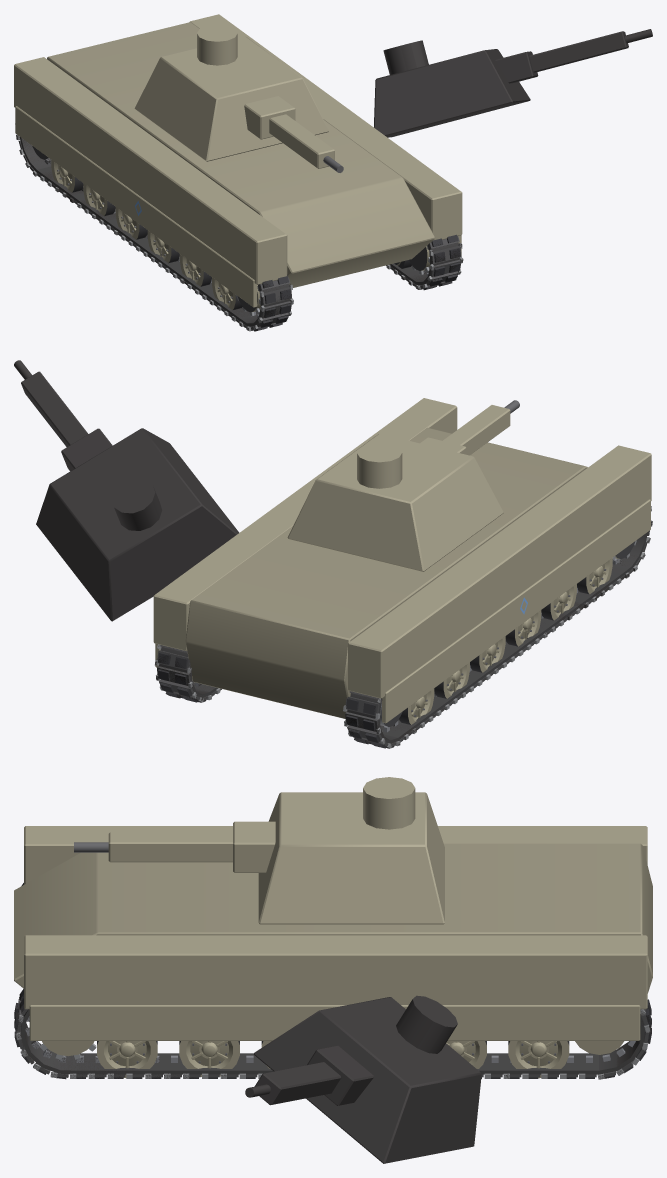
Rendered from aaVehicle__korkut.glb.
3 renders of one model, top to bottom at view 1: azimuth 30°, elevation 25°; view 2: azimuth 150°, elevation 25°; view 3: azimuth 270°, elevation 25°, orthographic. The views are drawn at different scales.
Parts seen in each view (by area): view 1: Hull_Mesh, Wreck, Turret_Mesh, Track_L_Mesh, Gun_Mesh, Track_R_Mesh, Wheel_L2_Mesh, Wheel_L0_Mesh, Wheel_L3_Mesh, Wheel_L4_Mesh, Wheel_L1_Mesh, Wheel_L5_Mesh; view 2: Hull_Mesh, Wreck, Turret_Mesh, Track_L_Mesh, Gun_Mesh, Track_R_Mesh, Wheel_L3_Mesh, Wheel_L5_Mesh, Wheel_L4_Mesh, Wheel_L2_Mesh, Wheel_L1_Mesh, Wheel_L0_Mesh; view 3: Hull_Mesh, Wreck, Turret_Mesh, Track_R_Mesh, Gun_Mesh, Wheel_R0_Mesh, Wheel_R4_Mesh, Wheel_R5_Mesh, Sprocket_R_Mesh, Wheel_R1_Mesh.
Boxes of the visible parts, x1,y1,x2,y2 form: Hull_Mesh: (14, 14, 462, 307); Wreck: (16, 29, 652, 330); Turret_Mesh: (134, 24, 328, 161); Track_L_Mesh: (16, 134, 293, 331); Gun_Mesh: (244, 96, 343, 172); Track_R_Mesh: (386, 234, 463, 290); Wheel_L2_Mesh: (115, 207, 147, 239); Wheel_L0_Mesh: (51, 160, 83, 192); Wheel_L3_Mesh: (147, 230, 179, 263); Wheel_L4_Mesh: (179, 254, 211, 286); Wheel_L1_Mesh: (83, 183, 115, 216); Wheel_L5_Mesh: (212, 277, 242, 310); Hull_Mesh: (153, 398, 651, 723); Wreck: (14, 360, 652, 748); Turret_Mesh: (287, 433, 503, 571); Track_L_Mesh: (343, 506, 652, 748); Gun_Mesh: (420, 400, 519, 455); Track_R_Mesh: (155, 644, 221, 702); Wheel_L3_Mesh: (505, 610, 541, 646); Wheel_L5_Mesh: (577, 558, 612, 594); Wheel_L4_Mesh: (541, 584, 576, 620); Wheel_L2_Mesh: (470, 636, 505, 672); Wheel_L1_Mesh: (434, 662, 469, 698); Wheel_L0_Mesh: (398, 688, 434, 724); Hull_Mesh: (14, 826, 652, 1040); Wreck: (14, 993, 651, 1163); Turret_Mesh: (258, 777, 444, 924); Track_R_Mesh: (14, 988, 651, 1079); Gun_Mesh: (74, 821, 275, 872); Wheel_R0_Mesh: (508, 1041, 569, 1078); Wheel_R4_Mesh: (179, 1041, 239, 1076); Wheel_R5_Mesh: (97, 1041, 157, 1077); Sprocket_R_Mesh: (40, 1041, 96, 1059); Wheel_R1_Mesh: (446, 1041, 486, 1068).
Size of what is drawn, in the model's own units: 7.7 by 2.72 by 6.83.
